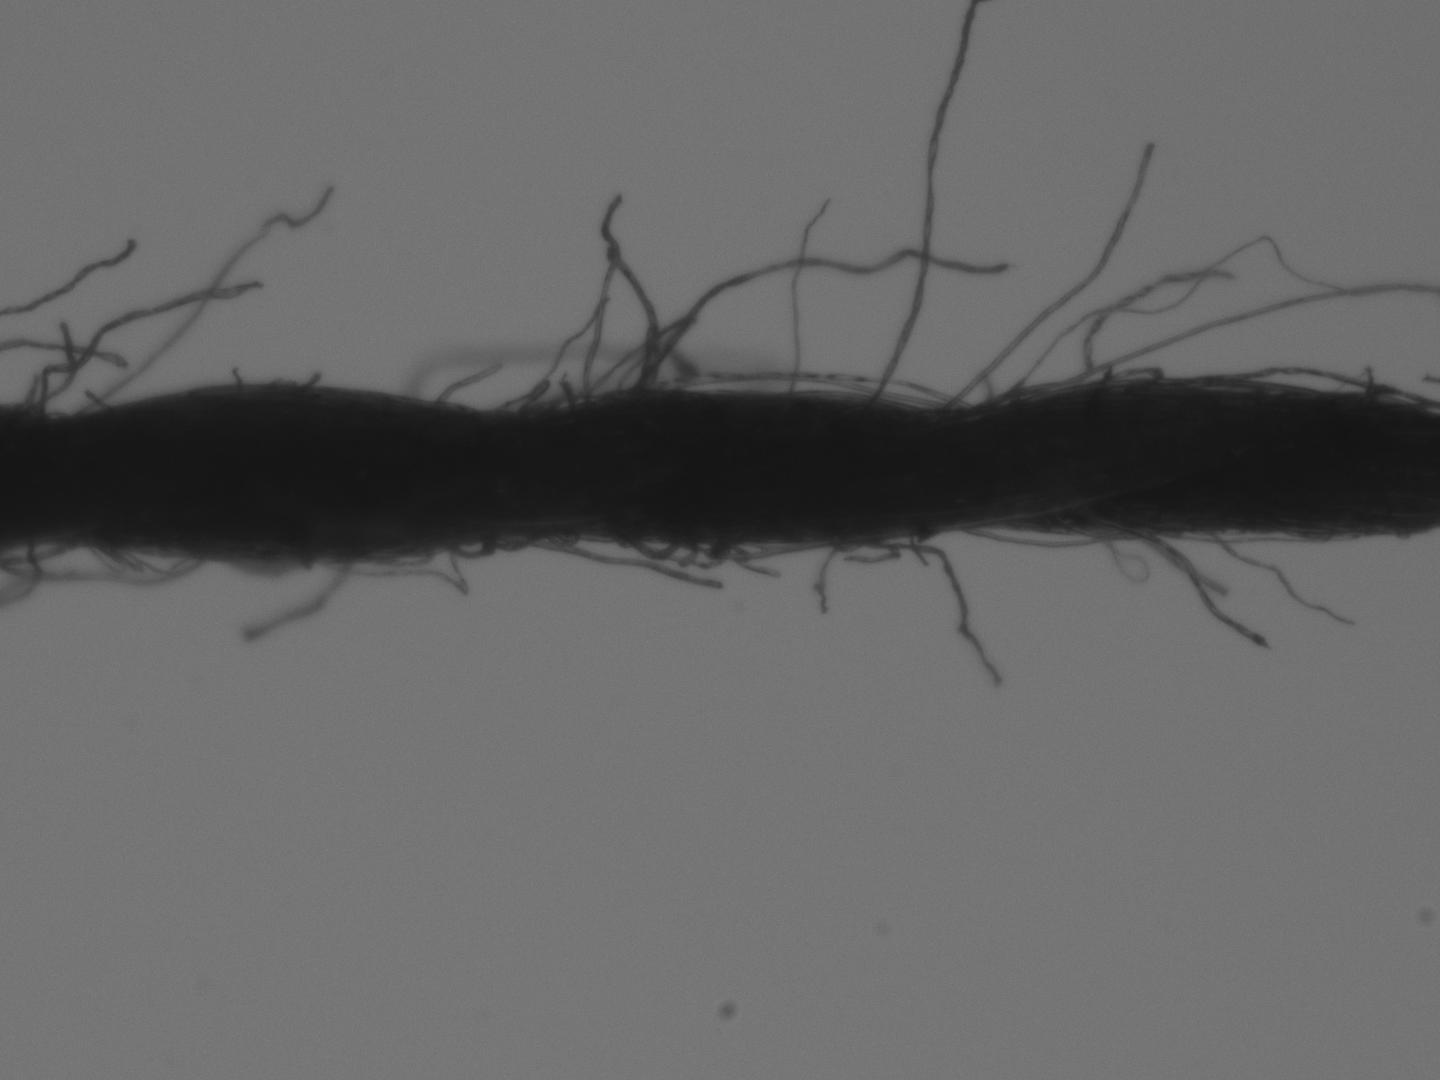loop_fiber: (659, 369, 960, 417), (2, 540, 196, 589), (1230, 361, 1431, 403), (963, 523, 1107, 549), (96, 545, 197, 569), (543, 391, 636, 415), (672, 538, 735, 572), (627, 532, 684, 562), (1106, 365, 1164, 388), (493, 530, 547, 551), (449, 538, 493, 563)
protruding_fiber: (933, 133, 1161, 420), (866, 6, 976, 408), (866, 539, 1005, 690), (788, 193, 835, 395), (431, 361, 501, 402), (815, 548, 838, 614)
